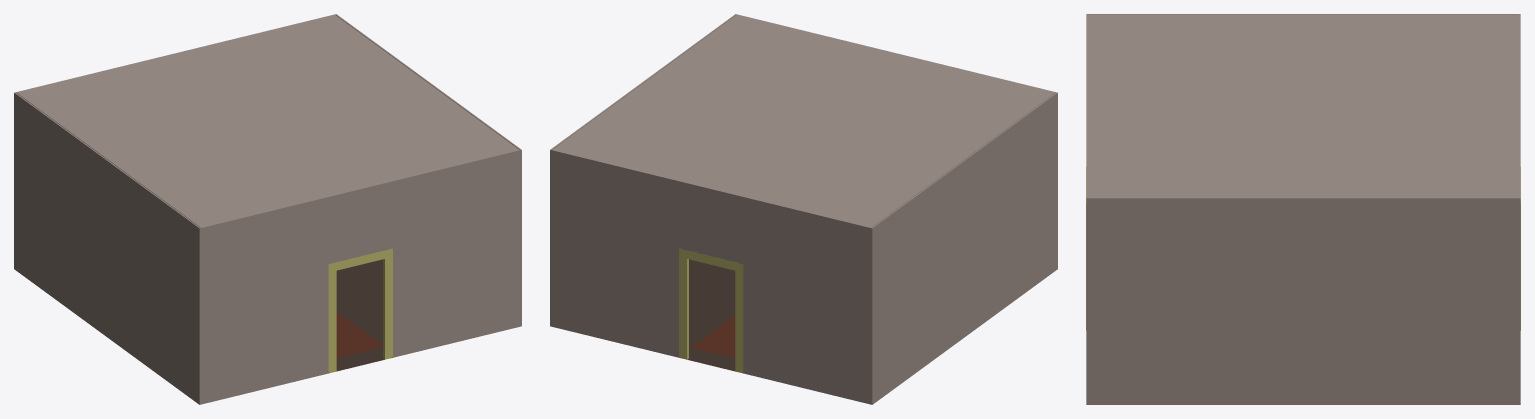
The model's file is Room22_Gallery.fbx.
3 renders of one model, left to right at view 1: azimuth 30°, elevation 25°; view 2: azimuth 150°, elevation 25°; view 3: azimuth 270°, elevation 25°, orthographic. The views are drawn at different scales.
Parts seen in each view (by area): view 1: Roof, WallSlicedPosZ, WallPosX, WallSlicedPosZ9, WallPosX15, Floor, DoorFramePosZ, pPlane8, WallNegX; view 2: Roof, WallSlicedNegZ, WallPosX, WallSlicedNegZ5, WallPosX15, Floor, DoorFrameNegZ, pPlane8, WallNegX; view 3: Roof, WallNegX, WallNegX24, WallPosX.
Boxes of the visible parts, x1,y1,x2,y2 form: Roof: (17,15,518,227); WallSlicedPosZ: (199,149,521,364); WallPosX: (14,92,200,364); WallSlicedPosZ9: (200,286,521,404); WallPosX15: (14,229,201,404); Floor: (329,259,392,373); DoorFramePosZ: (328,248,392,372); pPlane8: (336,312,382,358); WallNegX: (336,14,521,285); Roof: (553,15,1054,227); WallSlicedNegZ: (550,149,871,364); WallPosX: (871,92,1057,364); WallSlicedNegZ5: (550,286,870,404); WallPosX15: (870,229,1057,404); Floor: (679,259,742,373); DoorFrameNegZ: (679,248,743,372); pPlane8: (692,315,735,357); WallNegX: (550,14,735,285); Roof: (1088,15,1518,197); WallNegX: (1086,197,1520,357); WallNegX24: (1086,357,1520,404); WallPosX: (1086,14,1520,14).
Bounding box in the file's own units: 802 × 420 × 800.
